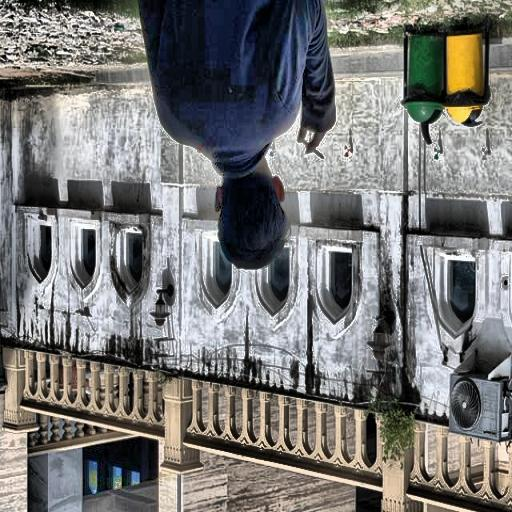Merokok: (307, 148, 322, 159)
Rokok: (298, 129, 325, 159)
